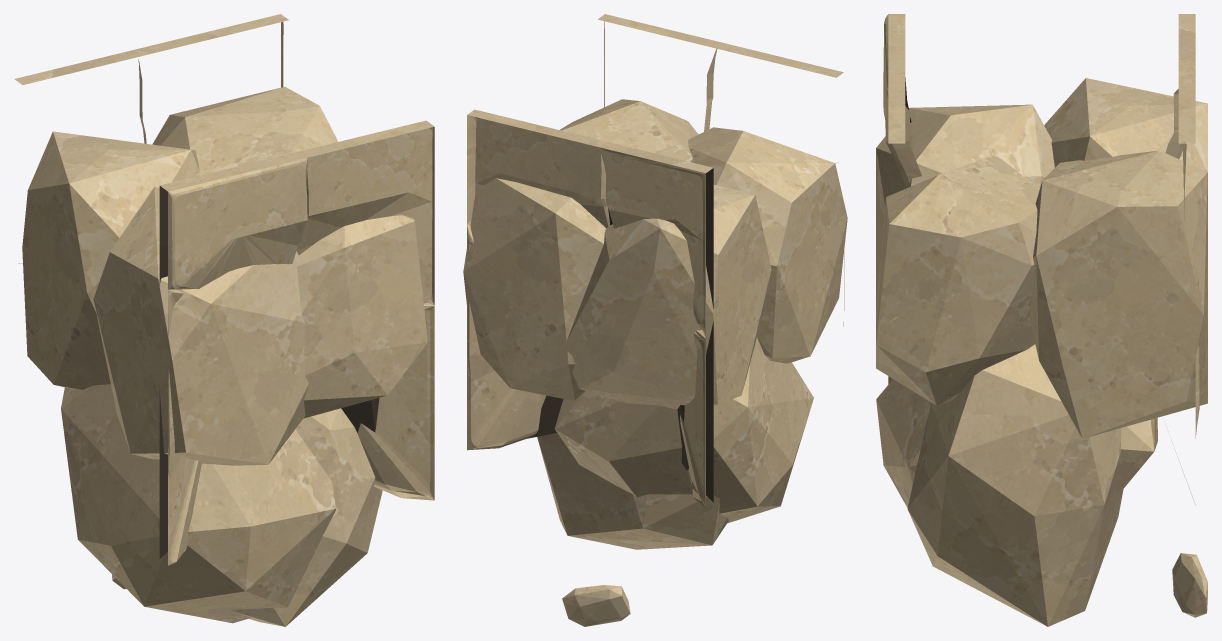
The model's file is ground_bottom_square_strip_04.glb.
The picture shows the model from 3 angles, left to right: view 1: azimuth 30°, elevation 25°; view 2: azimuth 150°, elevation 25°; view 3: azimuth 270°, elevation 25°; orthographic projection. The views are drawn at different scales.
Parts seen in each view (by area): view 1: GroundBottomSquareStrip04_Body; view 2: GroundBottomSquareStrip04_Body; view 3: GroundBottomSquareStrip04_Body.
Boxes of the visible parts, x1=… form: GroundBottomSquareStrip04_Body: x1=14, y1=14, x2=434, y2=626; GroundBottomSquareStrip04_Body: x1=463, y1=14, x2=847, y2=626; GroundBottomSquareStrip04_Body: x1=876, y1=14, x2=1207, y2=626.
Bounding box in the file's own units: 1 × 1.93 × 1.08.
10 materials, 9 textured.
